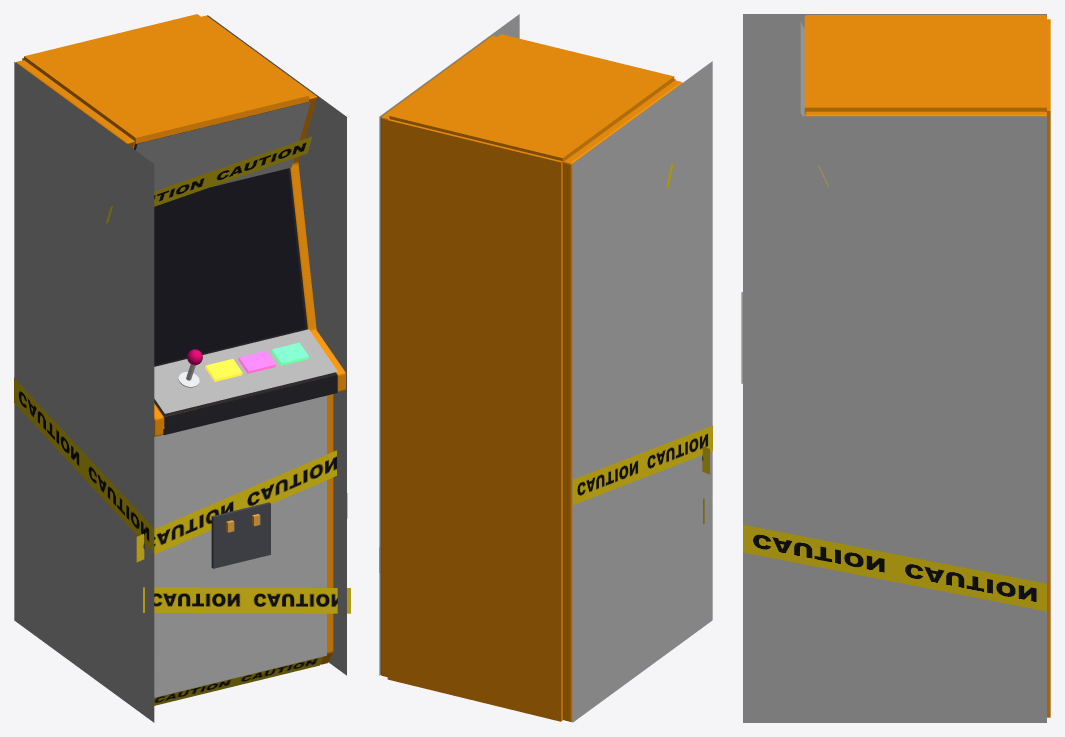
Rendered from pinocab.glb.
3 views of the same model, side by side, from view 1: azimuth 30°, elevation 25°; view 2: azimuth 150°, elevation 25°; view 3: azimuth 270°, elevation 25° (orthographic). The views are drawn at different scales.
Visible parts, largest first — view 1: art_side_l, art_front, monitor, lid, art_side_r, art_marquee, art_deck, haz_front_b, side_r, haz_front_a, haz_side_l, deck_lip (+9 smaller); view 2: back, art_side_l, lid, side_l, side_r, haz_side_l, art_side_r; view 3: art_side_r, lid, haz_side_r, art_side_l, back, side_r.
Part boxes in pixels (box(x1,y1,x2,y2)): art_side_l: box(14, 62, 154, 722); art_front: box(154, 395, 326, 697); monitor: box(154, 168, 305, 364); lid: box(24, 14, 308, 143); art_side_r: box(207, 15, 346, 675); art_marquee: box(135, 101, 310, 191); art_deck: box(154, 329, 337, 413); haz_front_b: box(143, 587, 350, 613); side_r: box(199, 15, 345, 664); haz_front_a: box(136, 450, 336, 562); haz_side_l: box(14, 378, 153, 553); deck_lip: box(164, 375, 337, 434); back: box(387, 119, 563, 721); art_side_l: box(572, 61, 712, 722); lid: box(389, 34, 674, 163); side_l: box(563, 80, 682, 721); side_r: box(380, 36, 496, 676); haz_side_l: box(572, 425, 712, 504); art_side_r: box(379, 14, 519, 675); art_side_r: box(743, 116, 1046, 722); lid: box(804, 16, 1046, 113); haz_side_r: box(743, 524, 1046, 611); art_side_l: box(743, 14, 1046, 116); back: box(1046, 19, 1050, 717); side_r: box(805, 111, 1046, 116).
Size of the model in its own units: 0.74 by 1.86 by 0.8548.
16 materials, 1 textured.
